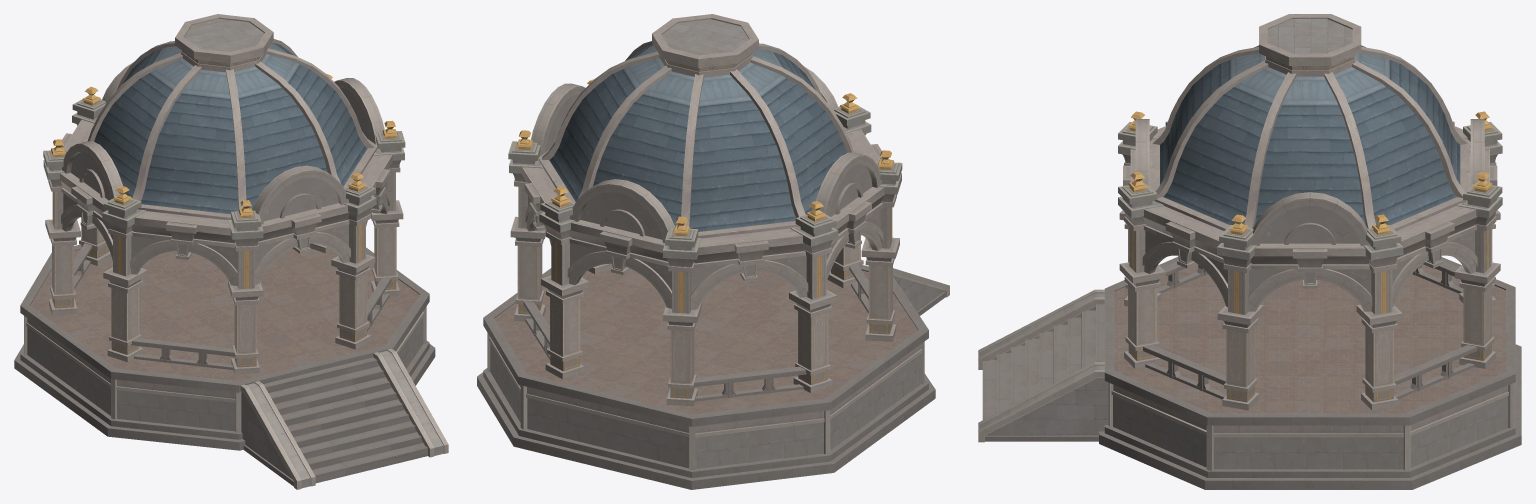
Rendered from Homeworld_Exterior_Fd_Build_House_01_Lod0.fbx.
3 views of the same model, side by side, from view 1: azimuth 30°, elevation 25°; view 2: azimuth 150°, elevation 25°; view 3: azimuth 270°, elevation 25° (orthographic). The views are drawn at different scales.
Parts seen in each view (by area): view 1: Homeworld_Exterior_Fd_Build_House_01_Lod0; view 2: Homeworld_Exterior_Fd_Build_House_01_Lod0; view 3: Homeworld_Exterior_Fd_Build_House_01_Lod0.
Part boxes in pixels (x1,y1,x2,y2): Homeworld_Exterior_Fd_Build_House_01_Lod0: [14, 14, 448, 489]; Homeworld_Exterior_Fd_Build_House_01_Lod0: [477, 14, 949, 489]; Homeworld_Exterior_Fd_Build_House_01_Lod0: [978, 14, 1521, 489].
Size of what is drawn, in the model's own units: 12.28 by 11.72 by 15.78.
